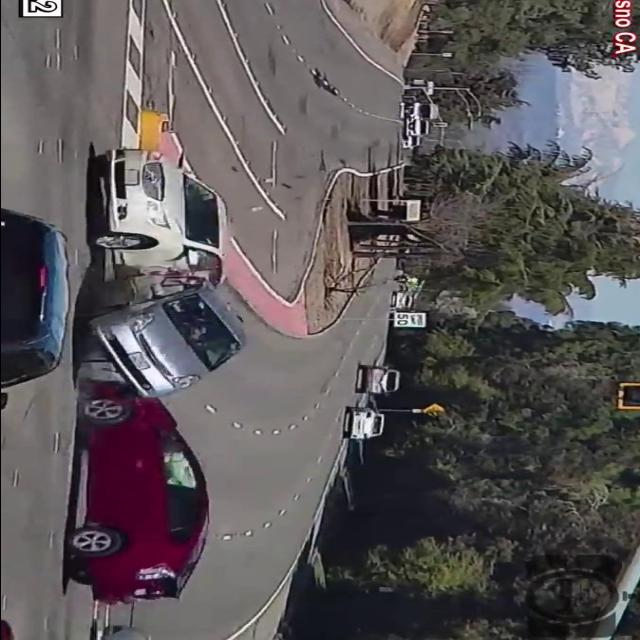accident: (45, 143, 287, 617)
